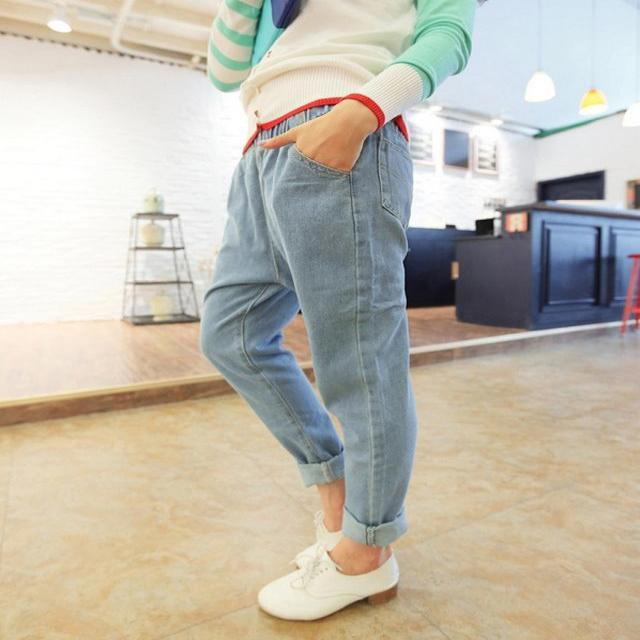trousers: (200, 101, 444, 541)
